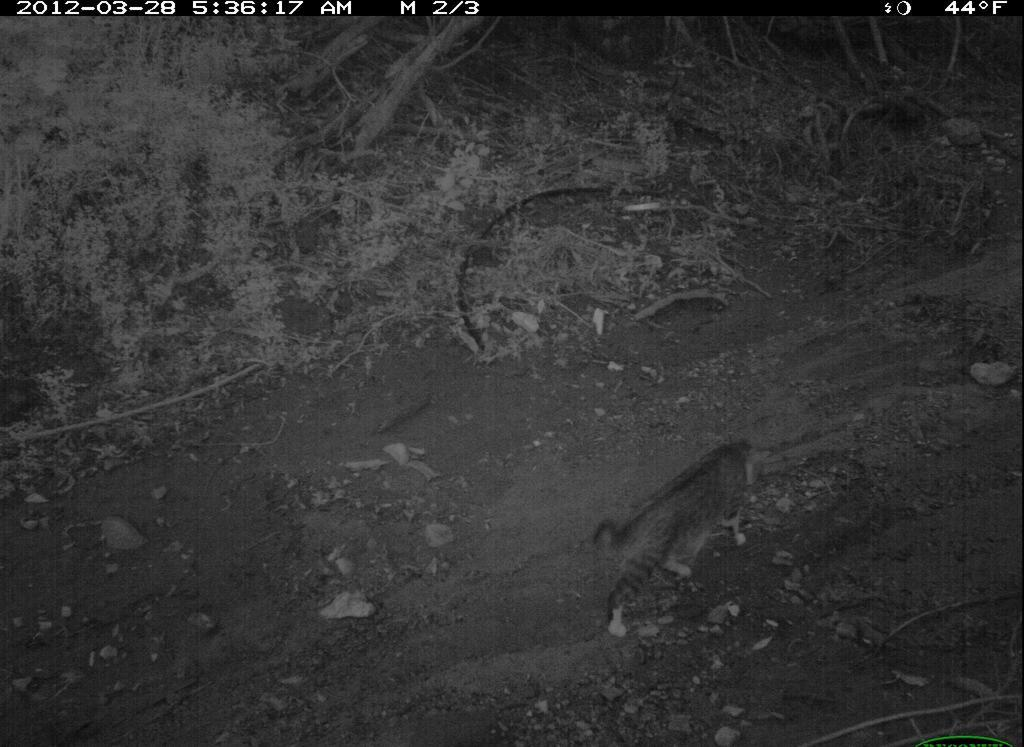cat: (592, 431, 757, 641)
